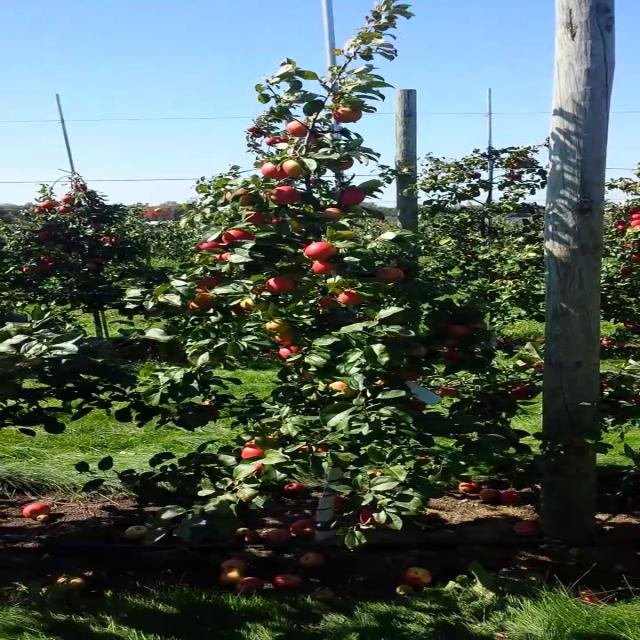apple: (300, 242, 337, 260), (266, 186, 300, 204), (359, 508, 389, 528), (222, 229, 254, 245), (330, 380, 358, 398), (266, 276, 295, 292), (334, 108, 362, 124), (224, 189, 252, 205), (262, 162, 286, 180), (339, 290, 365, 305), (510, 381, 534, 397), (377, 267, 404, 281), (341, 189, 364, 205), (245, 211, 271, 225), (322, 208, 348, 222), (193, 292, 213, 310), (286, 121, 308, 137), (312, 260, 337, 274), (283, 160, 303, 177), (241, 299, 269, 311), (446, 324, 470, 338), (280, 344, 301, 360), (266, 320, 290, 333), (289, 219, 315, 231), (242, 444, 264, 458), (274, 332, 293, 346), (406, 345, 428, 357), (231, 303, 253, 315), (199, 241, 225, 251), (319, 296, 340, 308), (433, 386, 458, 396), (336, 157, 354, 170), (200, 278, 223, 288), (395, 371, 421, 379), (215, 252, 235, 262), (443, 351, 463, 361), (249, 288, 274, 296), (408, 401, 424, 413), (386, 314, 404, 324), (308, 134, 324, 144), (374, 376, 389, 386), (472, 321, 490, 329), (296, 444, 308, 456), (369, 471, 383, 480), (244, 440, 258, 448), (314, 446, 328, 454), (254, 464, 264, 474), (271, 218, 283, 225), (246, 126, 258, 132), (265, 138, 276, 144), (278, 136, 288, 142), (196, 287, 207, 292), (188, 304, 198, 308)
